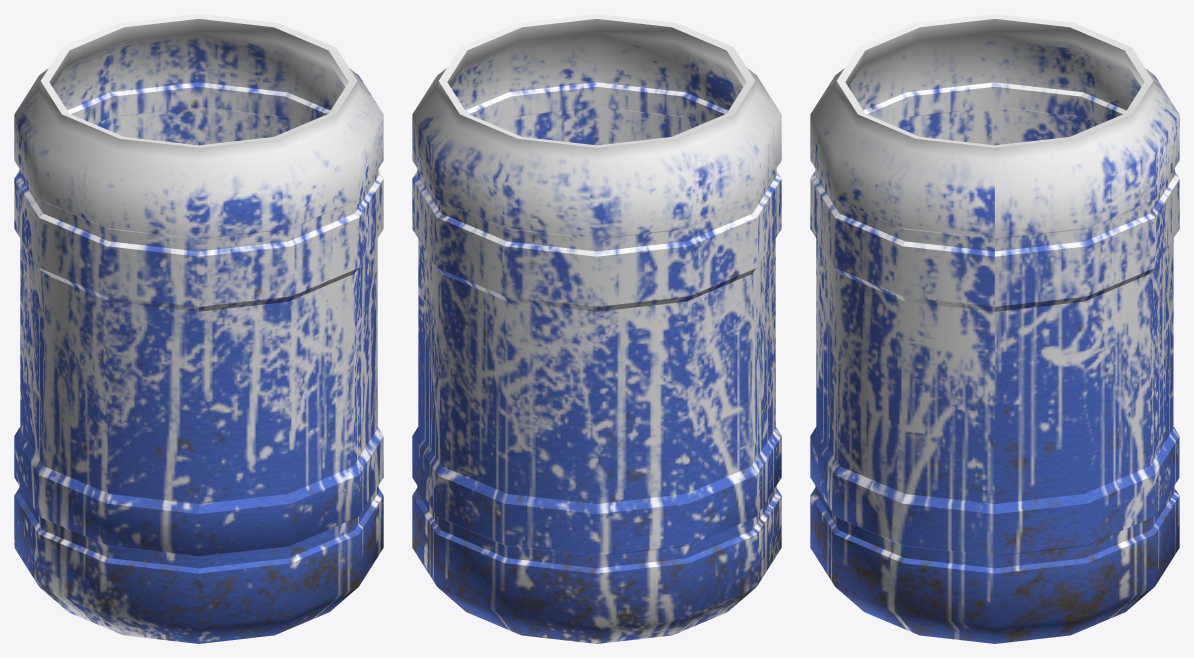
Rendered from mixingbarrel01_prp.fbx.
3 renders of one model, left to right at view 1: azimuth 30°, elevation 25°; view 2: azimuth 150°, elevation 25°; view 3: azimuth 270°, elevation 25°, orthographic.
Parts seen in each view (by area): view 1: mixingbarrel01_prp_1; view 2: mixingbarrel01_prp_1; view 3: mixingbarrel01_prp_1.
Part boxes in pixels (box(x1,y1,x2,y2)): mixingbarrel01_prp_1: box(14, 14, 383, 643); mixingbarrel01_prp_1: box(412, 14, 781, 643); mixingbarrel01_prp_1: box(810, 14, 1179, 643).
Size of the model in its own units: 0.5796 by 0.8644 by 0.5796.
